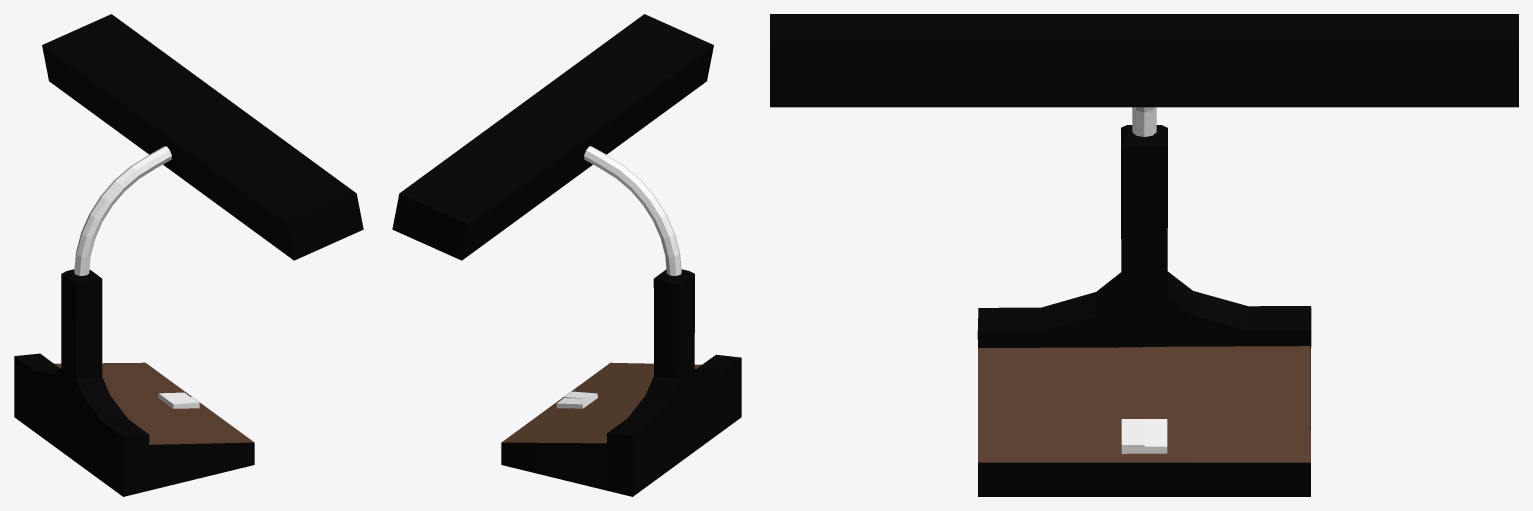
File: 70s.Lamp.Desk.fbx
3 renders of one model, left to right at view 1: azimuth 30°, elevation 25°; view 2: azimuth 150°, elevation 25°; view 3: azimuth 270°, elevation 25°, orthographic. The views are drawn at different scales.
Parts seen in each view (by area): view 1: 70s.Lamp.Desk; view 2: 70s.Lamp.Desk; view 3: 70s.Lamp.Desk.
Part boxes in pixels (bbox=[...]): 70s.Lamp.Desk: bbox=[14, 14, 363, 496]; 70s.Lamp.Desk: bbox=[392, 14, 741, 496]; 70s.Lamp.Desk: bbox=[770, 14, 1518, 496].
Size of the model in its own units: 18.27 by 31.7 by 45.
